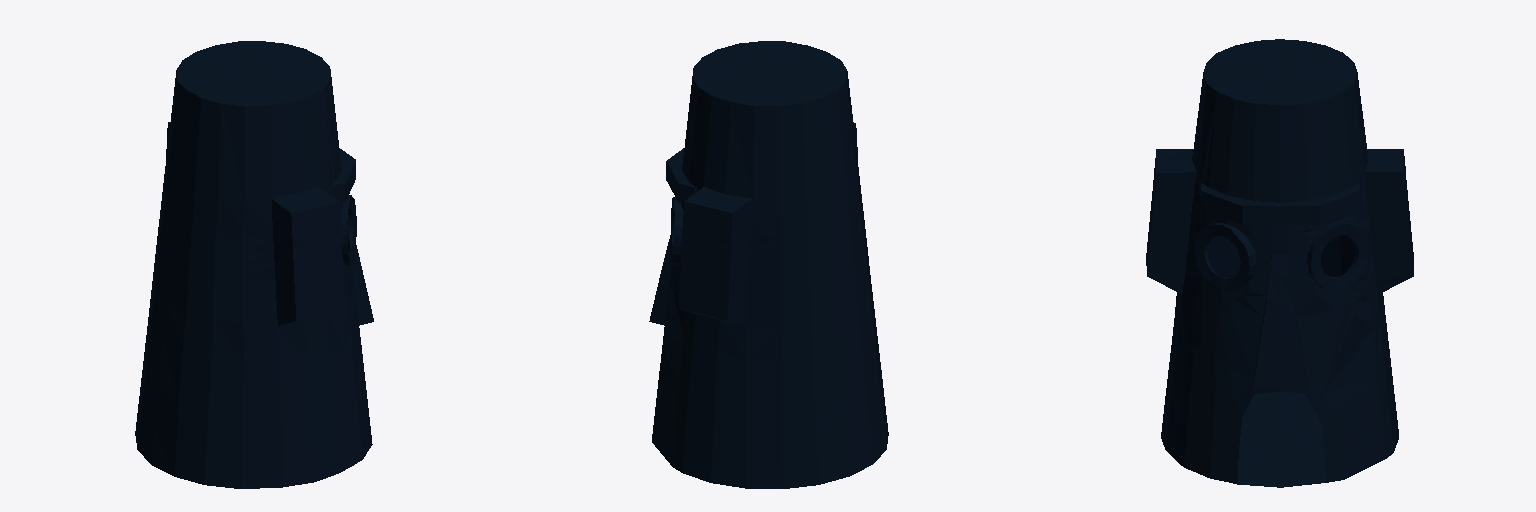
The model's file is SquidwardHouseBasicShape.obj.
3 views of the same model, side by side, from view 1: azimuth 30°, elevation 25°; view 2: azimuth 150°, elevation 25°; view 3: azimuth 270°, elevation 25° (orthographic).
Visible parts, largest first — view 1: polySurface1; view 2: polySurface1; view 3: polySurface1.
Boxes of the visible parts, x1=… form: polySurface1: x1=135, y1=41, x2=373, y2=488; polySurface1: x1=649, y1=41, x2=888, y2=488; polySurface1: x1=1146, y1=39, x2=1413, y2=487.
Bounding box in the file's own units: 4.31 × 7.16 × 4.74.